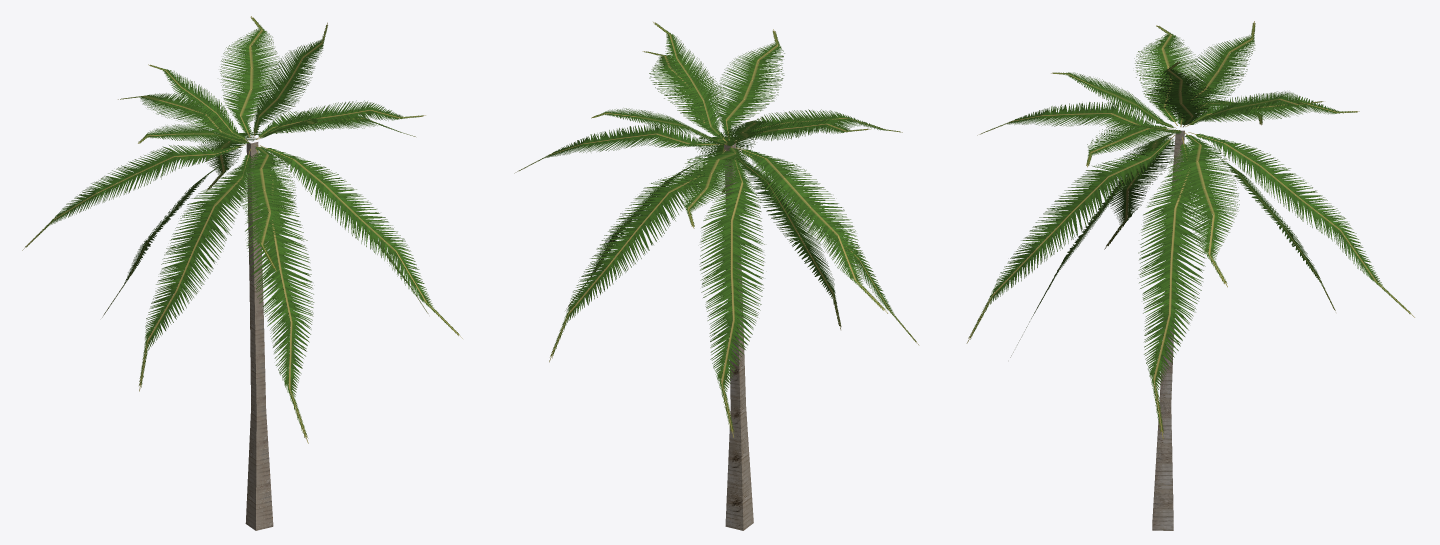
File: palm_c_far.glb
3 renders of one model, left to right at view 1: azimuth 30°, elevation 25°; view 2: azimuth 150°, elevation 25°; view 3: azimuth 270°, elevation 25°, orthographic. The views are drawn at different scales.
Visible parts, largest first — view 1: palm_c_far; view 2: palm_c_far; view 3: palm_c_far.
Part boxes in pixels (left/top/right/bottom): palm_c_far: left=22, top=16, right=462, bottom=530; palm_c_far: left=514, top=22, right=919, bottom=530; palm_c_far: left=966, top=21, right=1414, bottom=530.
Bounding box in the file's own units: 8.77 × 10.17 × 8.58.
Materials: 2 (2 with a texture image).
